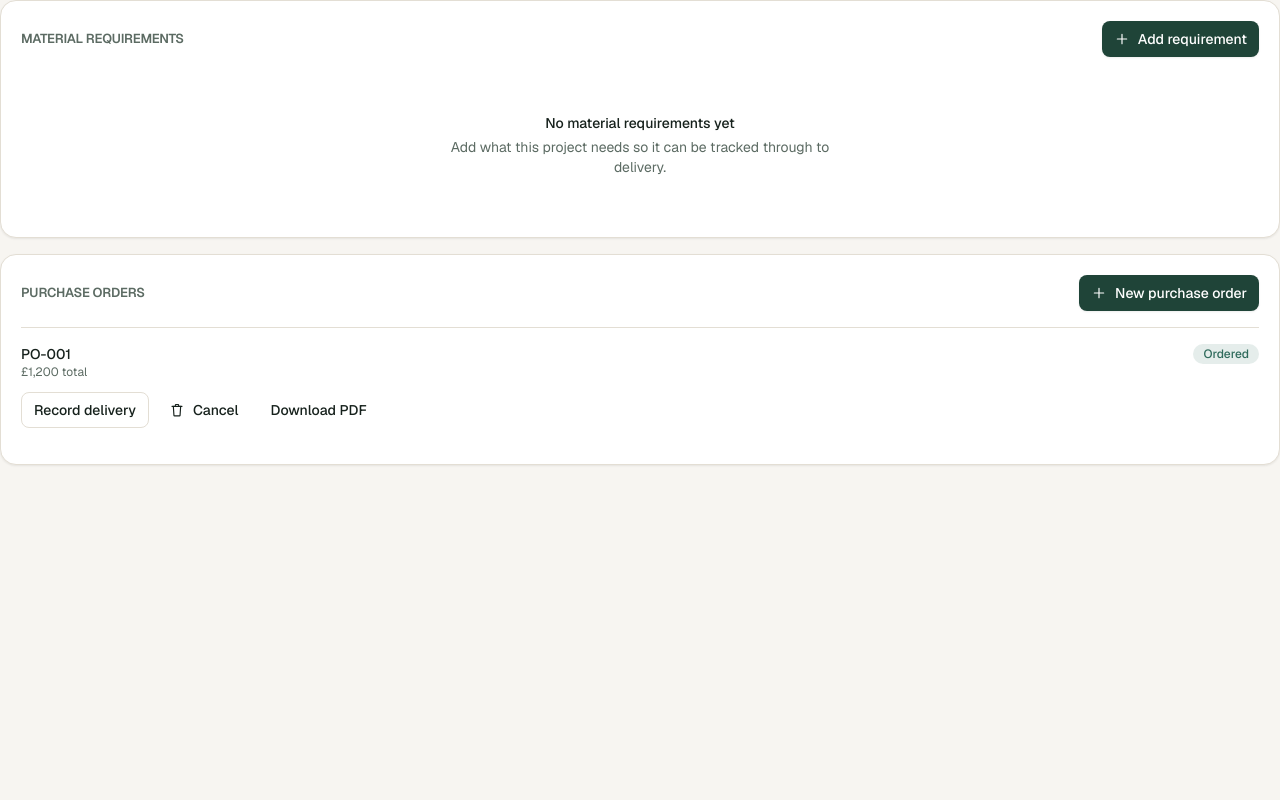
ProjectMaterialsPanel › records_a_delivery_against_an_ordered_purchase_order
Click the button "Record delivery". click: point(85, 410)
box: [21, 392, 149, 428]
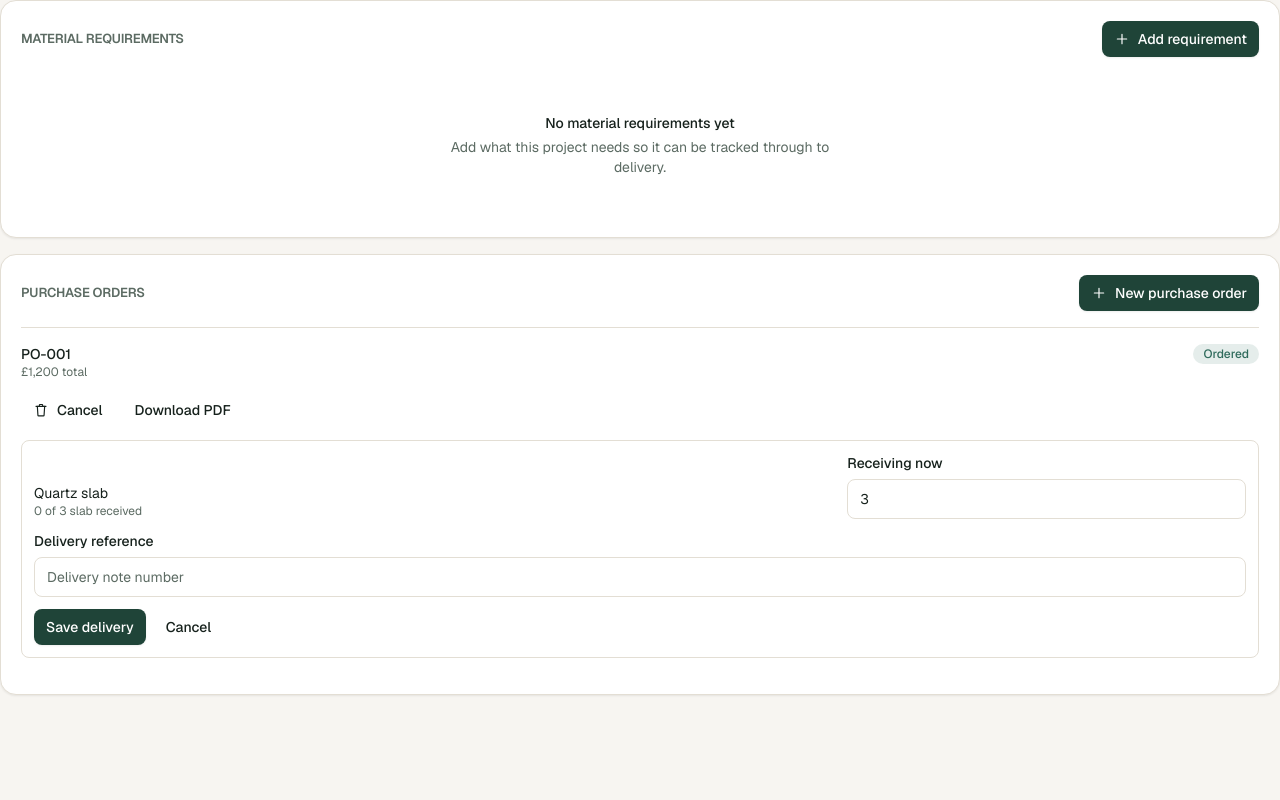
Click the button "Save delivery". click: point(90, 627)
box: [34, 609, 146, 645]
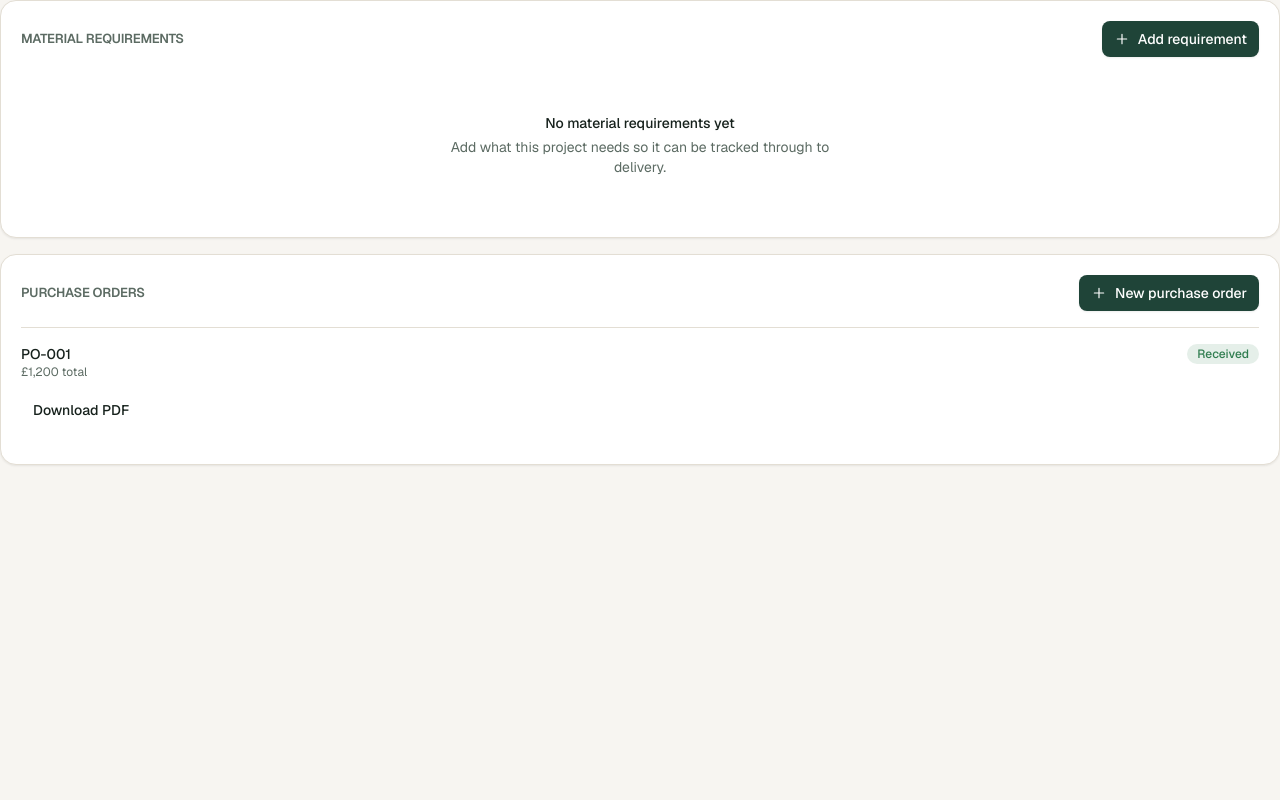
Result: the text "Received" is shown at [1187, 344, 1259, 364]
